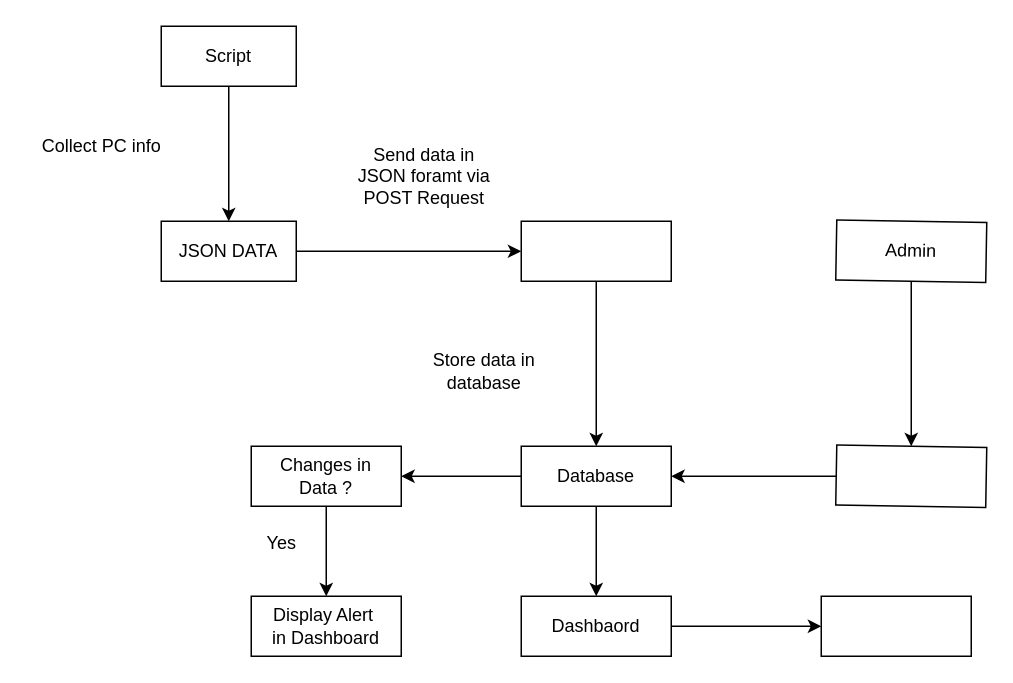
Some shapes in this 1013 by 683 pixel diagram are drawn without their labels. The centre of each missing label's shape, as x and y in pixels:
Display PC info: point (895, 625)
Django Server: point (595, 250)
Search PC IP address: point (910, 475)
